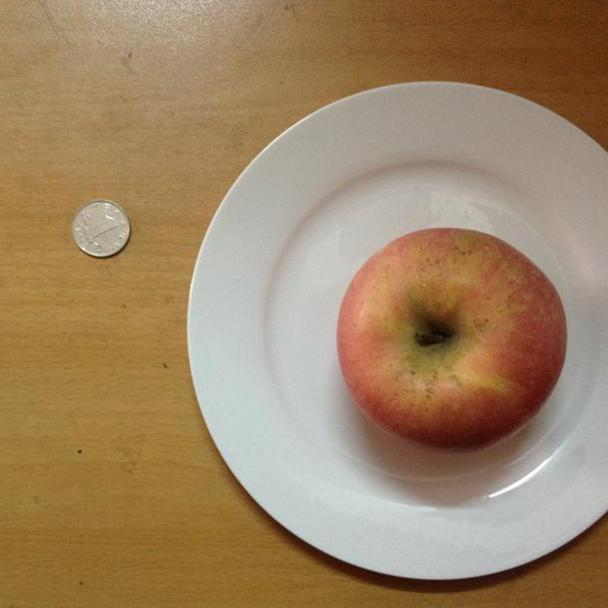apple: (333, 223, 570, 452)
